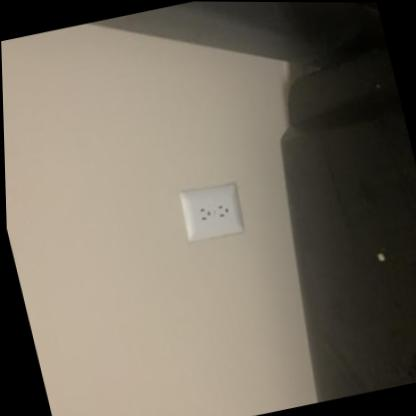OUTLET: (177, 180, 248, 242)
